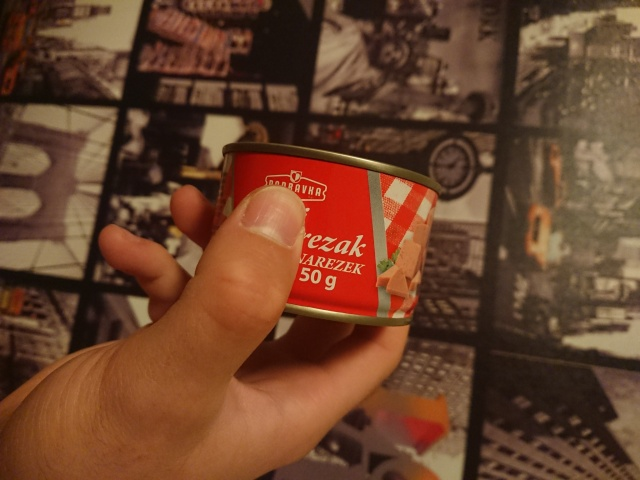Podravka Luncheon Meat 150g: (195, 138, 445, 330)
